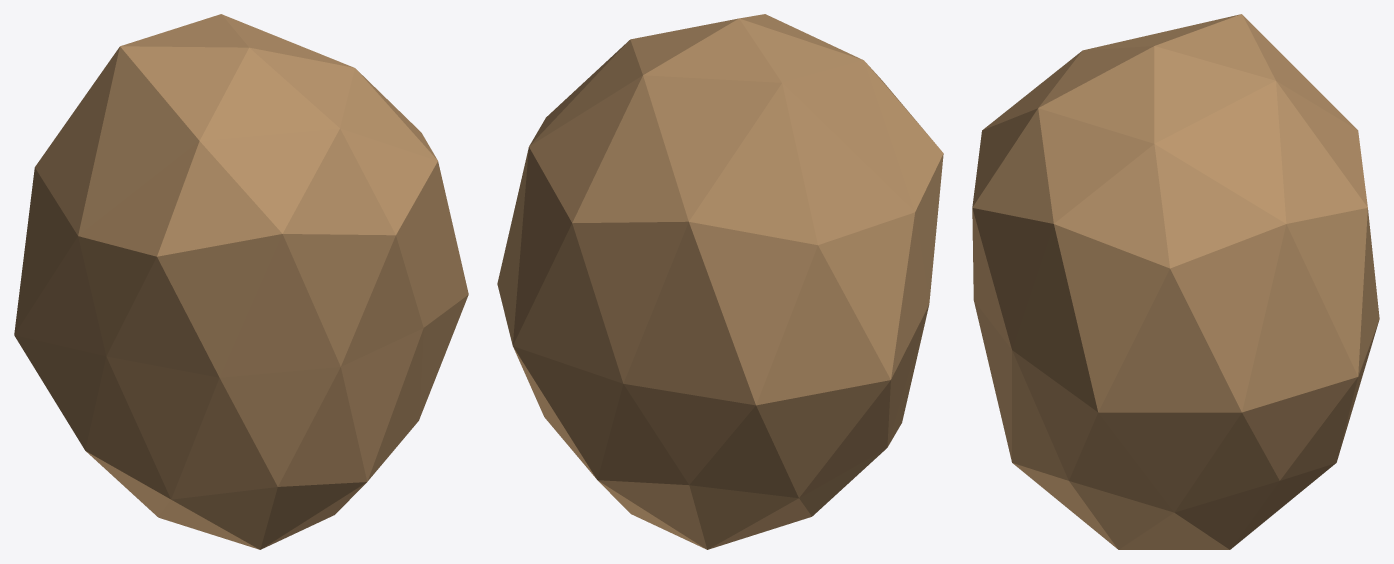
File: potato.fbx
3 renders of one model, left to right at view 1: azimuth 30°, elevation 25°; view 2: azimuth 150°, elevation 25°; view 3: azimuth 270°, elevation 25°, orthographic. The views are drawn at different scales.
Parts seen in each view (by area): view 1: Icosphere; view 2: Icosphere; view 3: Icosphere.
Boxes of the visible parts, x1,y1,x2,y2 form: Icosphere: (14,14,468,549); Icosphere: (497,14,943,549); Icosphere: (972,14,1379,549).
Bounding box in the file's own units: 24.18 × 29.01 × 22.27.
